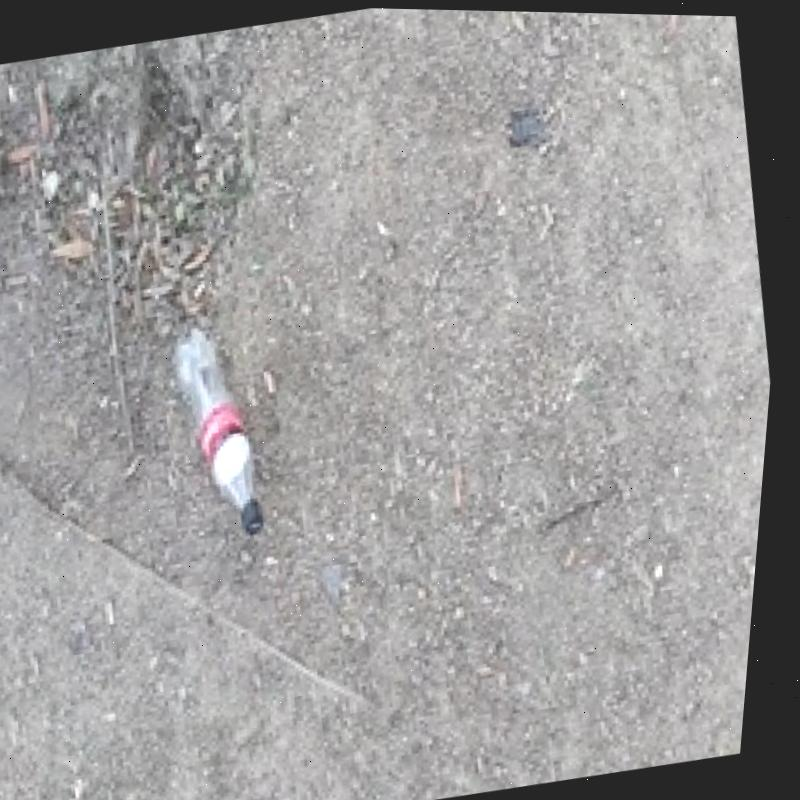botella: (160, 313, 300, 546)
